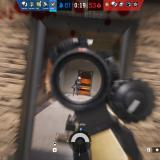Character: (71, 76, 82, 97)
Head: (78, 76, 81, 80)
